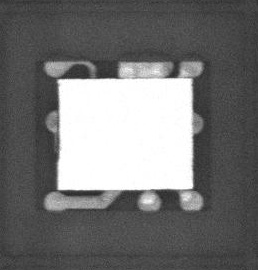DIE_BROKEN: (54, 82, 61, 161)
